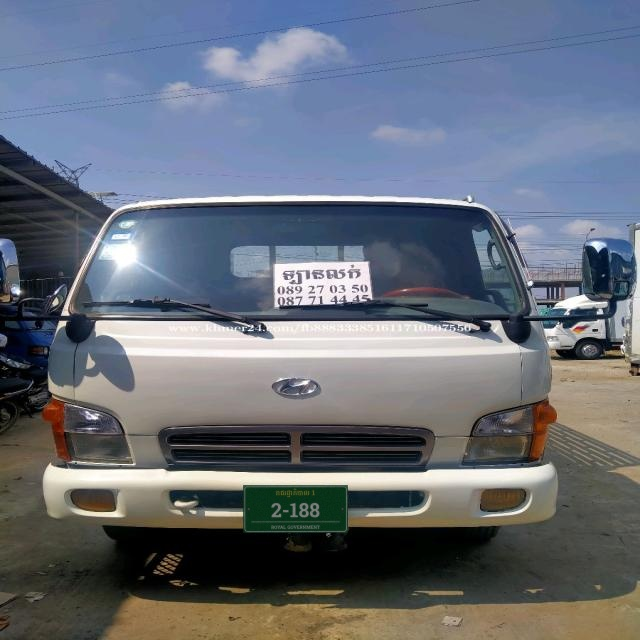Plate Number: (244, 485, 348, 533)
